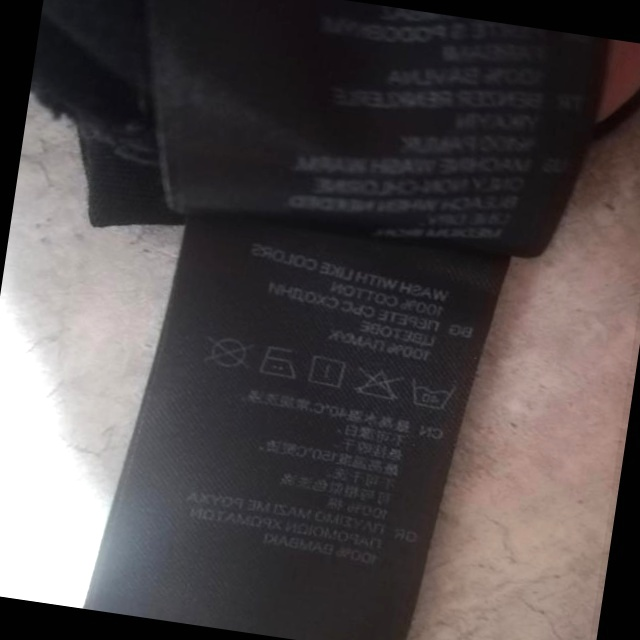40C: (404, 371, 455, 414)
DN_bleach: (350, 362, 403, 407)
DN_dry_clean: (198, 329, 258, 377)
iron_medium: (255, 342, 302, 385)
